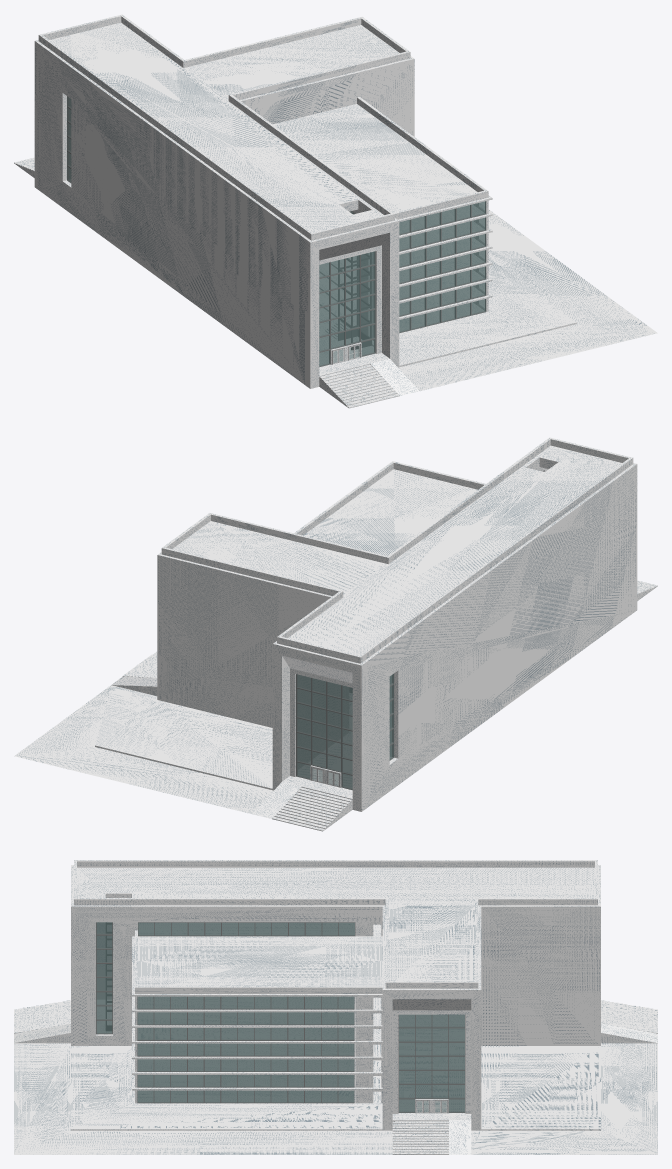
3 views of the same model, one above another, from view 1: azimuth 30°, elevation 25°; view 2: azimuth 150°, elevation 25°; view 3: azimuth 270°, elevation 25° (orthographic). The views are drawn at different scales.
Parts seen in each view (by area): view 1: Component_1 (×4), group_1 (×3), Component_2 (×7), Component_4; view 2: Component_1 (×4), group_1 (×3), Component_4 (×2); view 3: group_1 (×4), Component_1 (×3), Component_2 (×7), Component_4 (×3), Component_12.
Part boxes in pixels (box(x1,y1,x2,y2)): Component_1 (×4): box(34, 14, 414, 388); group_1 (×3): box(273, 97, 657, 390); Component_2 (×7): box(320, 205, 492, 334); Component_4: box(319, 232, 419, 408); Component_1 (×4): box(157, 437, 637, 811); group_1 (×3): box(14, 461, 485, 813); Component_4 (×2): box(111, 654, 352, 831); group_1 (×4): box(14, 930, 657, 1154); Component_1 (×3): box(71, 860, 600, 1130); Component_2 (×7): box(132, 996, 382, 1104); Component_4 (×3): box(14, 999, 657, 1154); Component_12: box(139, 923, 381, 931).
Size of the model in its own units: 2664 by 4862 by 1224.
